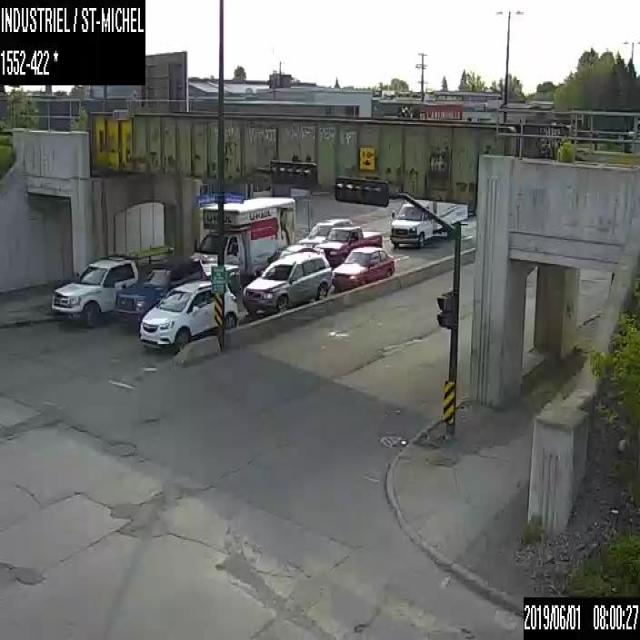vehicle: (188, 196, 294, 289), (49, 252, 157, 328), (139, 278, 237, 353), (115, 256, 206, 326), (242, 252, 331, 310), (389, 199, 467, 245), (330, 245, 395, 290), (314, 226, 382, 264), (296, 218, 354, 251)
